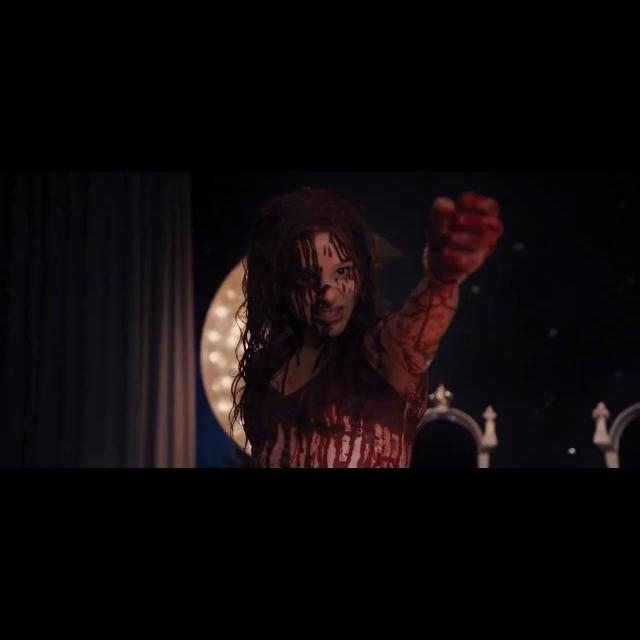blood: (240, 190, 504, 468)
